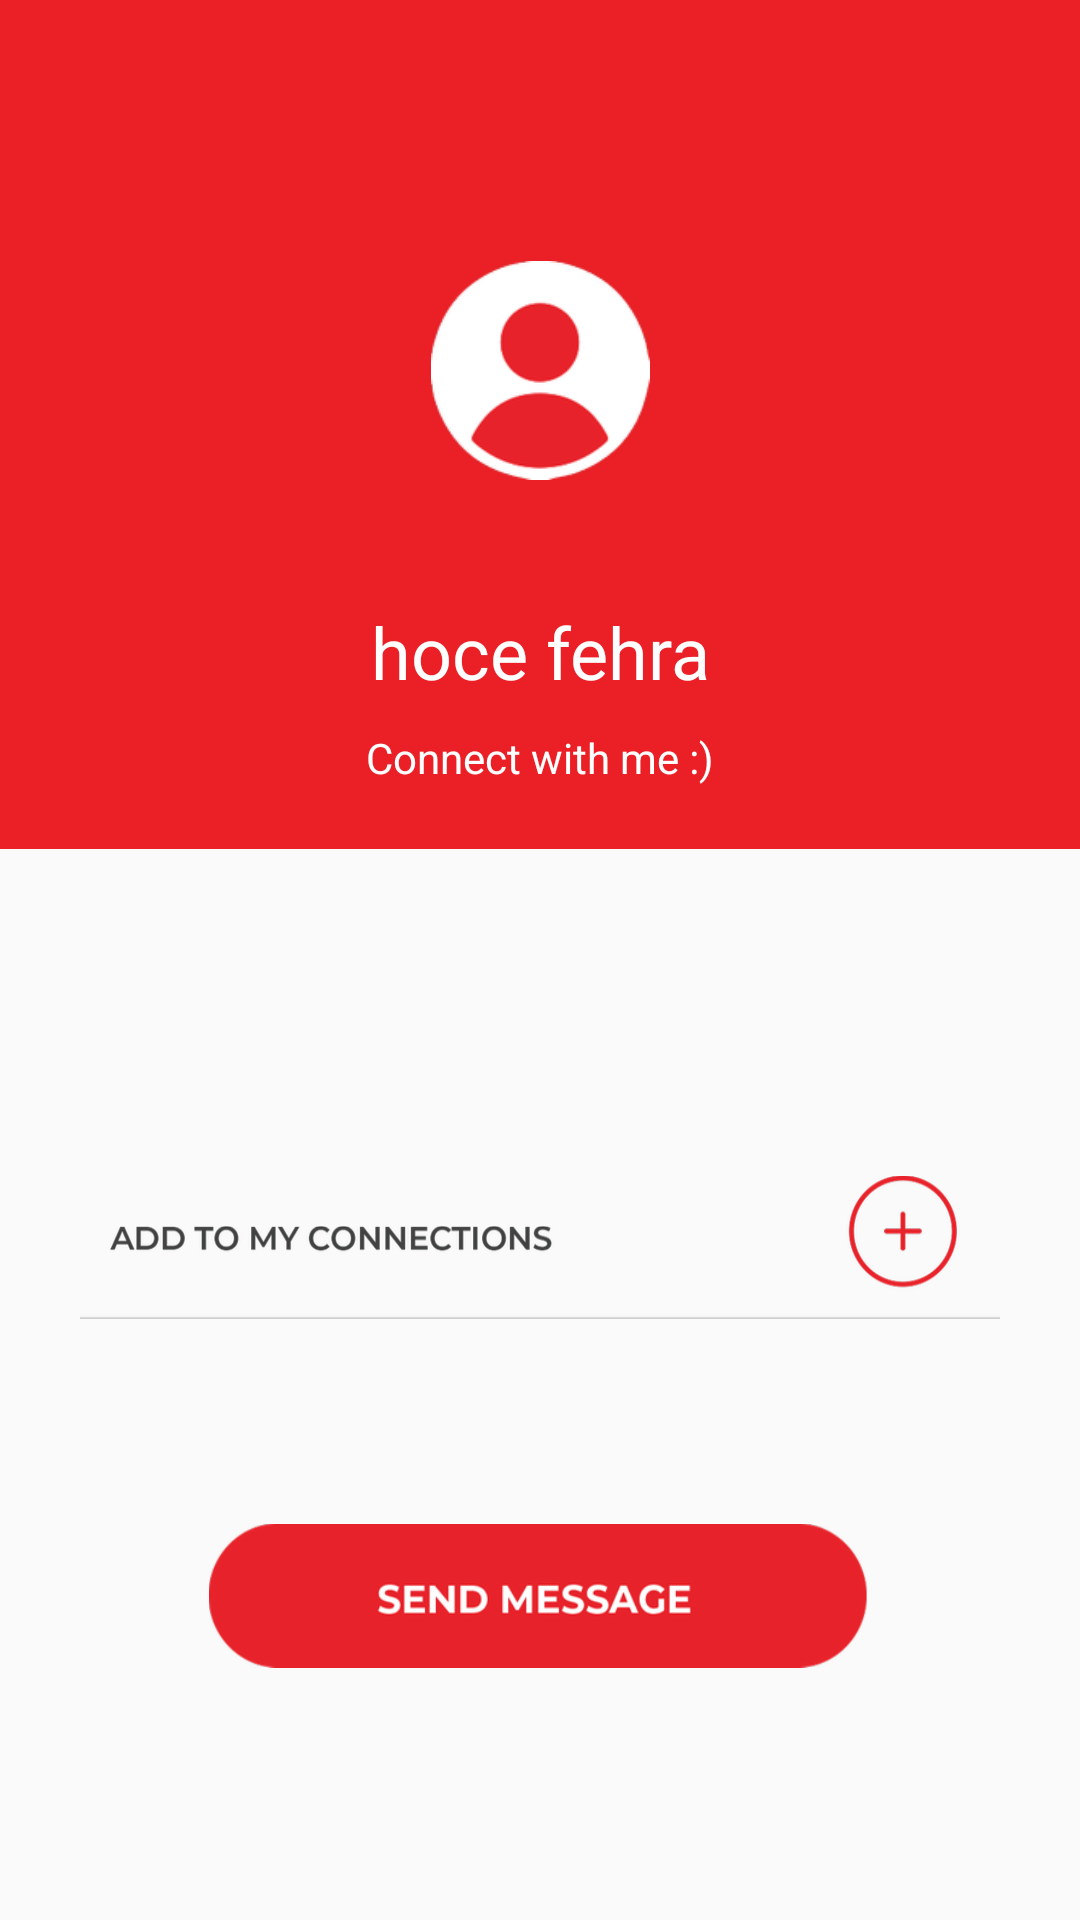

Where icons sit on this 1080w x 1920h app screen, as (x1, y1, x2, y2):
profileicon: (431, 261, 650, 480)
